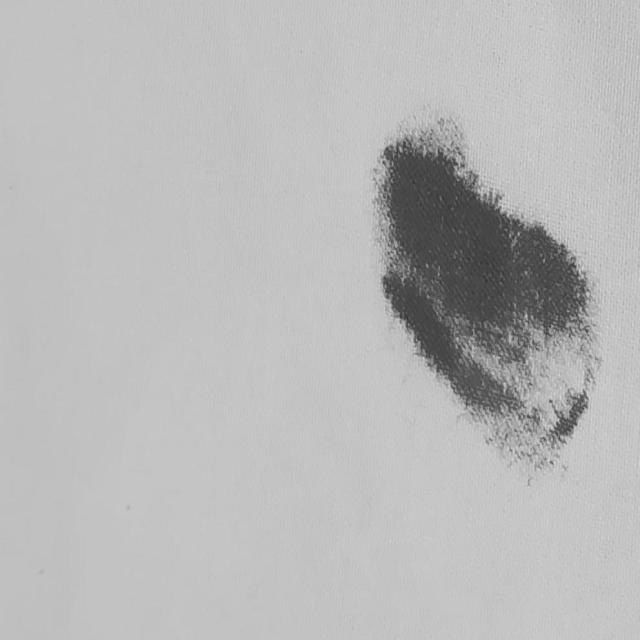Stain: (372, 105, 598, 481)
